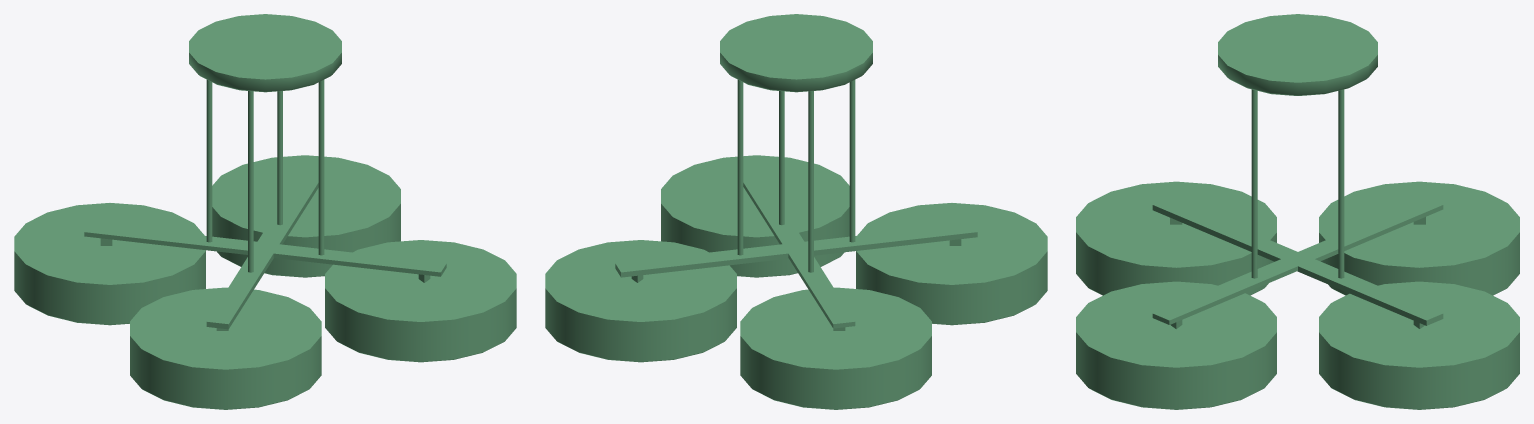
File: LightTopDesign05.FBX
The picture shows the model from 3 angles, left to right: view 1: azimuth 30°, elevation 25°; view 2: azimuth 150°, elevation 25°; view 3: azimuth 270°, elevation 25°; orthographic projection. The views are drawn at different scales.
Visible parts, largest first — view 1: LightTopDesign05; view 2: LightTopDesign05; view 3: LightTopDesign05.
Part boxes in pixels (x1,y1,x2,y2): LightTopDesign05: (14, 14, 516, 409); LightTopDesign05: (545, 14, 1047, 409); LightTopDesign05: (1076, 14, 1519, 409).
Size of the model in its own units: 59.6 by 60.05 by 40.16.
